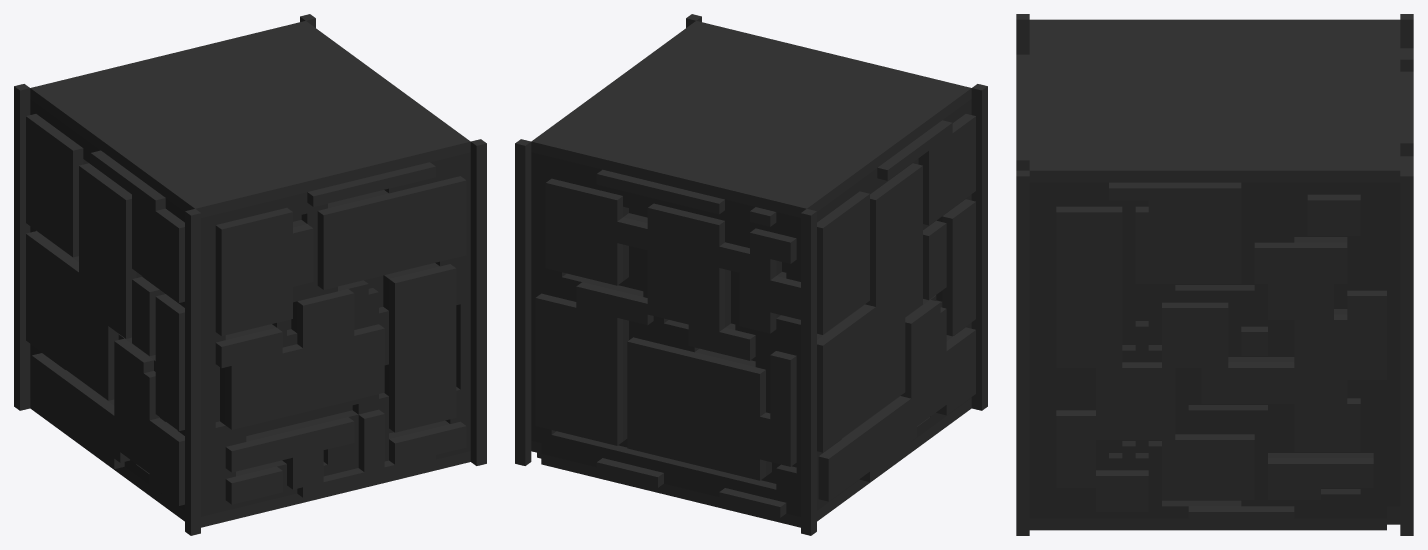
File: Normal_Wall.obj
3 views of the same model, side by side, from view 1: azimuth 30°, elevation 25°; view 2: azimuth 150°, elevation 25°; view 3: azimuth 270°, elevation 25° (orthographic). The views are drawn at different scales.
Parts seen in each view (by area): view 1: Normal_Wall; view 2: Normal_Wall; view 3: Normal_Wall.
Boxes of the visible parts, left/top/right/bottom form: Normal_Wall: left=14, top=14, right=486, bottom=535; Normal_Wall: left=515, top=14, right=987, bottom=535; Normal_Wall: left=1016, top=14, right=1413, bottom=535.
Bounding box in the file's own units: 29 × 30 × 30.
Materials: 1 (1 with a texture image).
